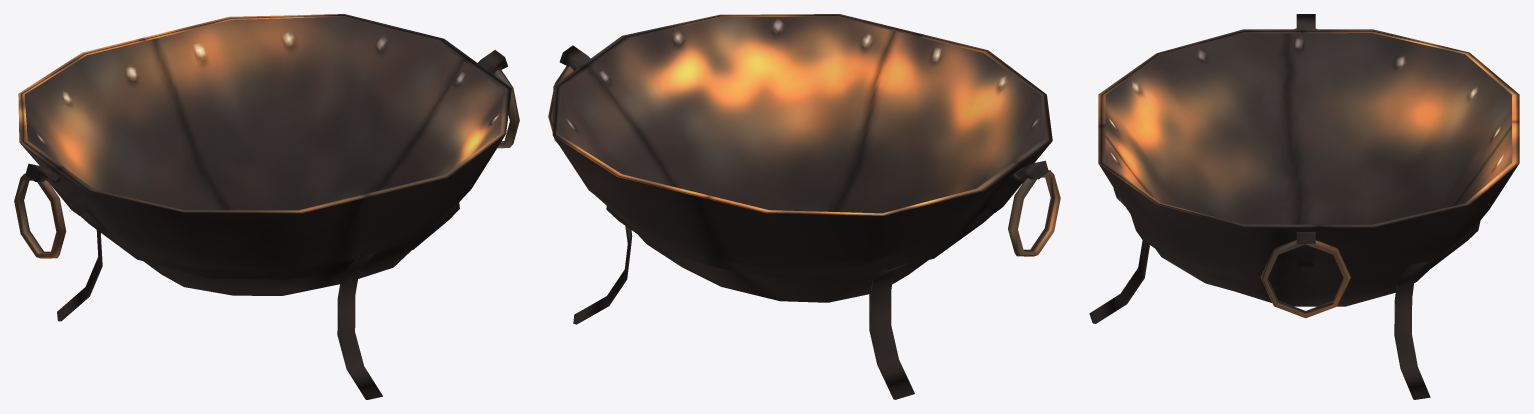
File: firePit 1.fbx
The picture shows the model from 3 angles, left to right: view 1: azimuth 30°, elevation 25°; view 2: azimuth 150°, elevation 25°; view 3: azimuth 270°, elevation 25°; orthographic projection. The views are drawn at different scales.
Parts seen in each view (by area): view 1: brazier_GEO; view 2: brazier_GEO; view 3: brazier_GEO.
Boxes of the visible parts, x1,y1,x2,y2 form: brazier_GEO: [14, 14, 519, 399]; brazier_GEO: [548, 14, 1060, 399]; brazier_GEO: [1089, 14, 1519, 399].
Size of the model in its own units: 90.69 by 38.35 by 74.47.
